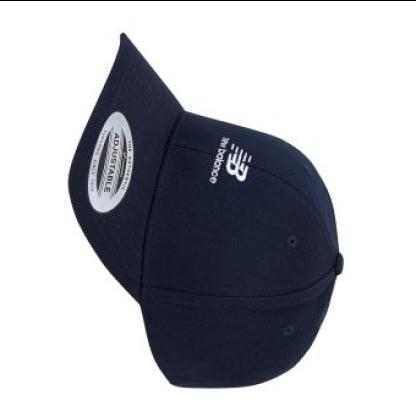cap: (65, 20, 352, 392)
